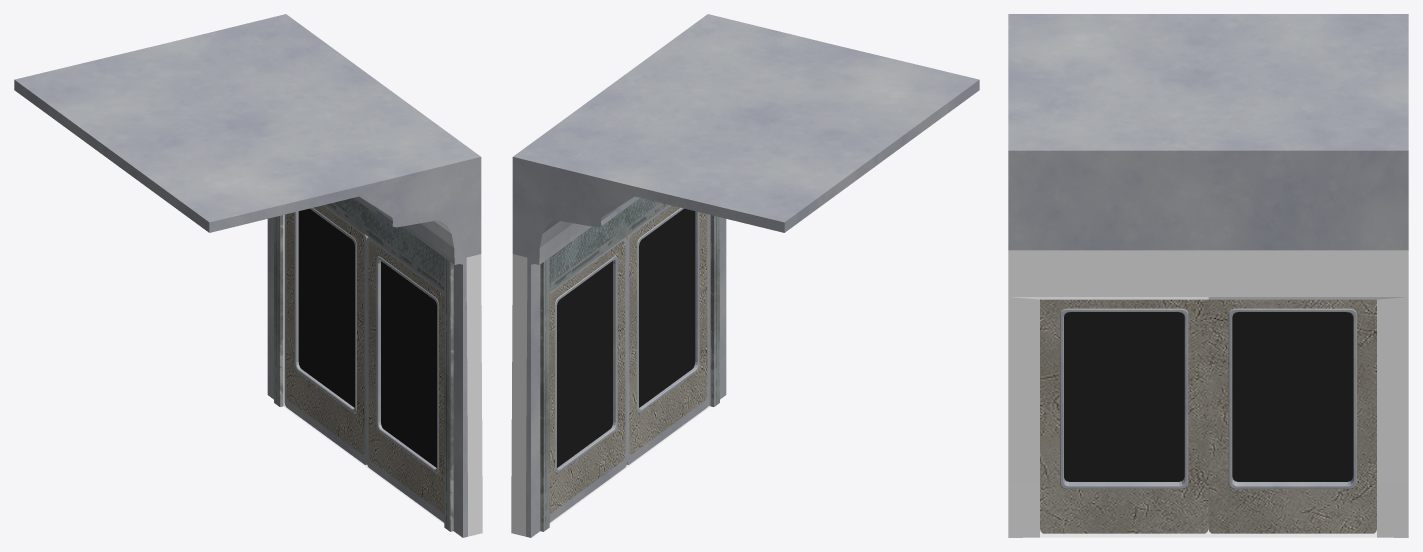
The model's file is MetroDoors.fbx.
3 renders of one model, left to right at view 1: azimuth 30°, elevation 25°; view 2: azimuth 150°, elevation 25°; view 3: azimuth 270°, elevation 25°, orthographic. The views are drawn at different scales.
Visible parts, largest first — view 1: MetroDoors; view 2: MetroDoors; view 3: MetroDoors.
Boxes of the visible parts, left/top/right/bottom form: MetroDoors: left=14, top=14, right=482, bottom=537; MetroDoors: left=511, top=14, right=979, bottom=537; MetroDoors: left=1008, top=14, right=1408, bottom=537.
Size of the model in its own units: 323 by 427 by 400.
6 materials, 3 textured.
